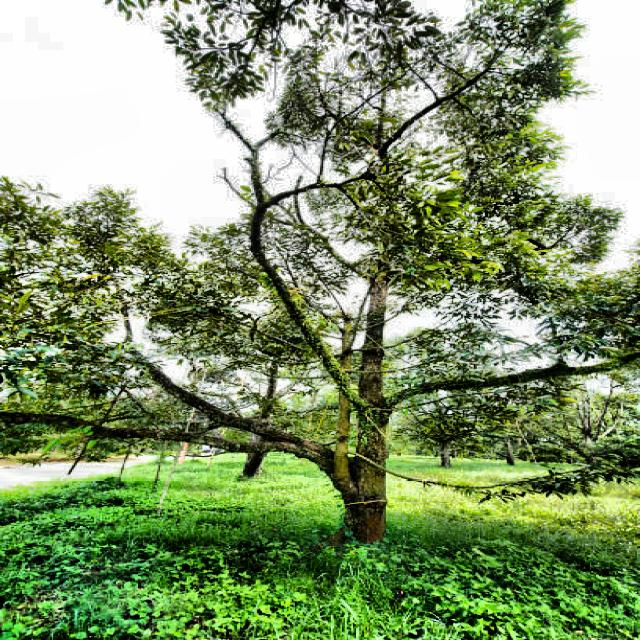arvore: (304, 264, 416, 561)
